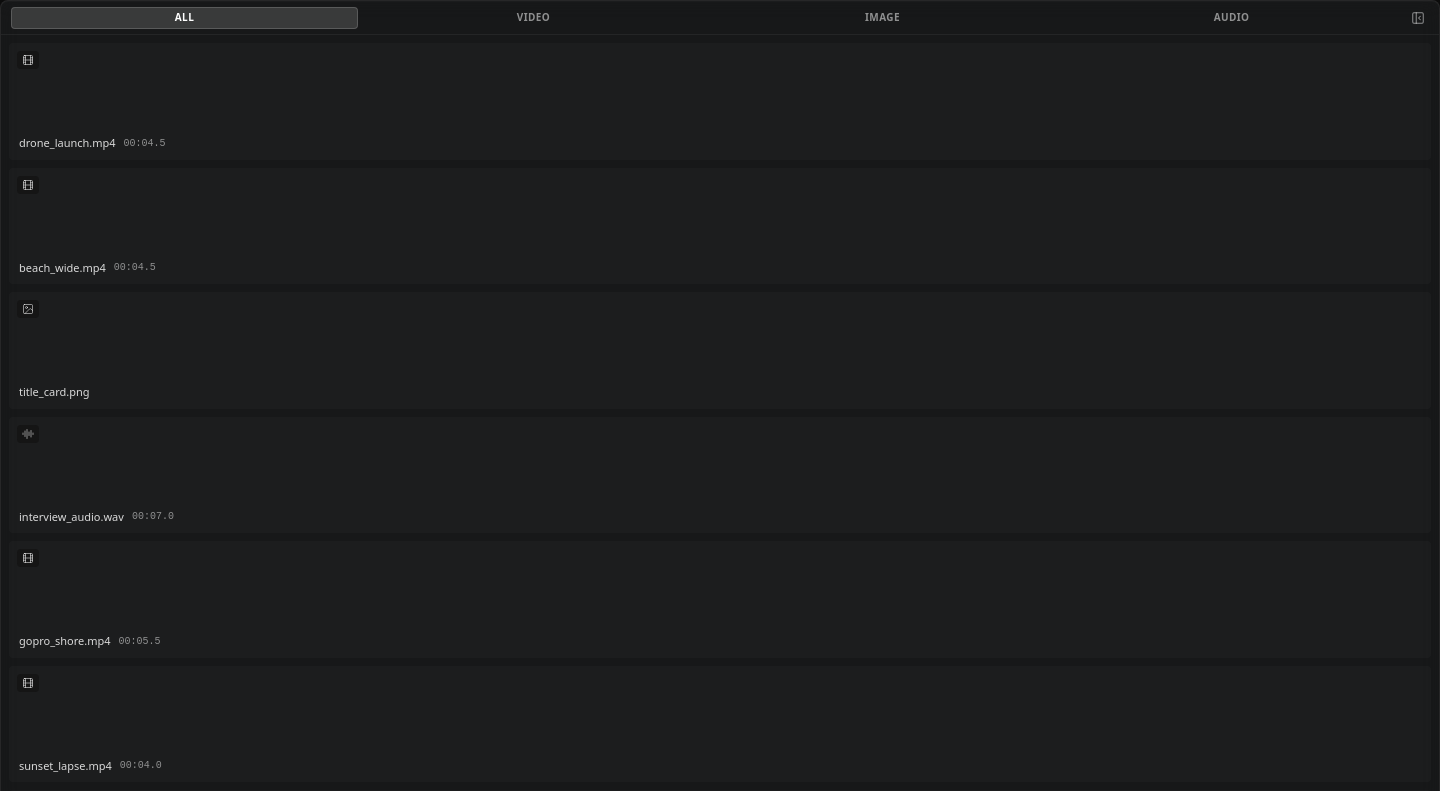
Test case: R18j hover autoplay (thread #15) › preview loops at the source duration (never runs past the media)
Hover over the button with test id "mini-media-m-drone": (720, 101) [9,43,1431,160]
Wait 4600 ms
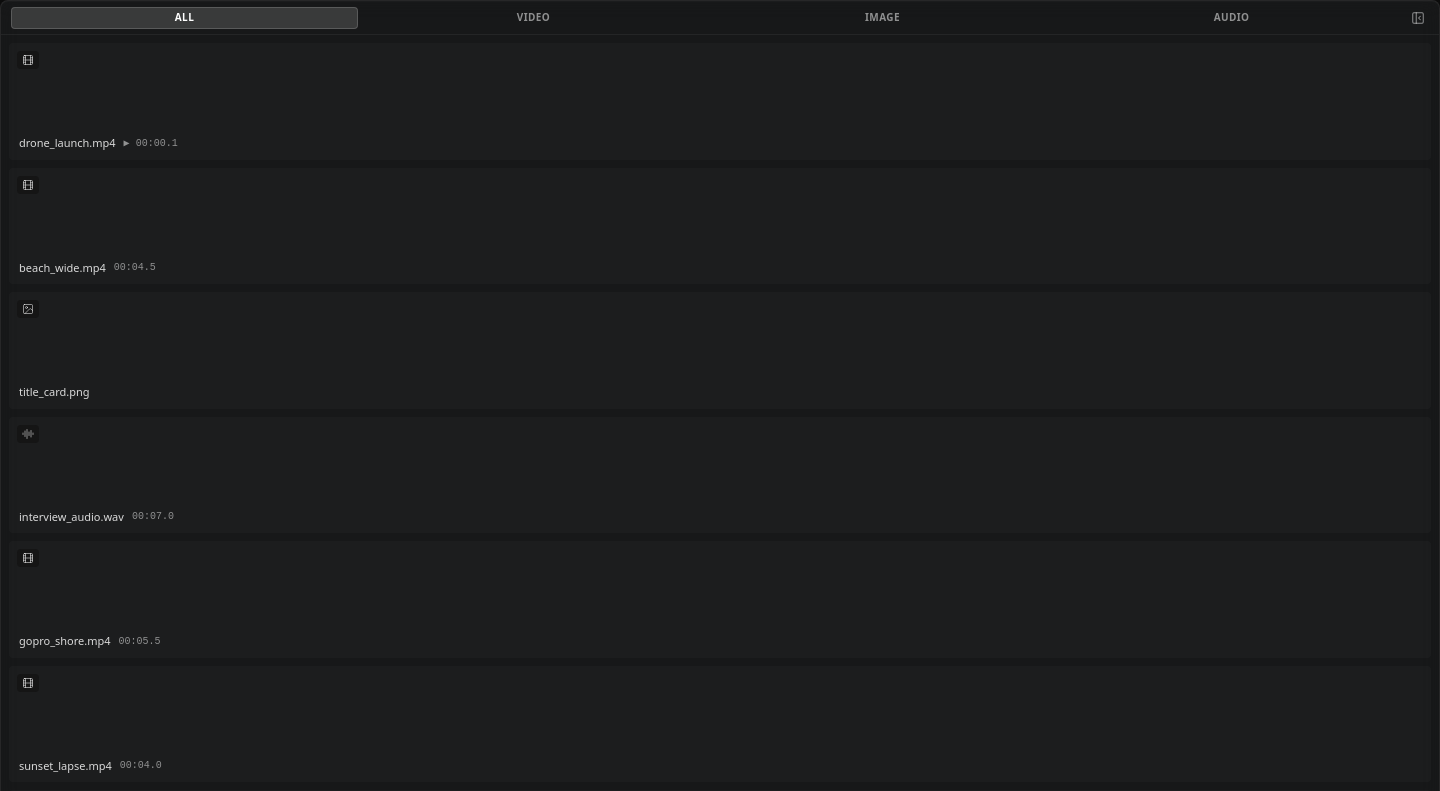
Result: the text with test id "mini-dur-m-drone" reads "▶ 00:00.1" at [124,138,178,149]
